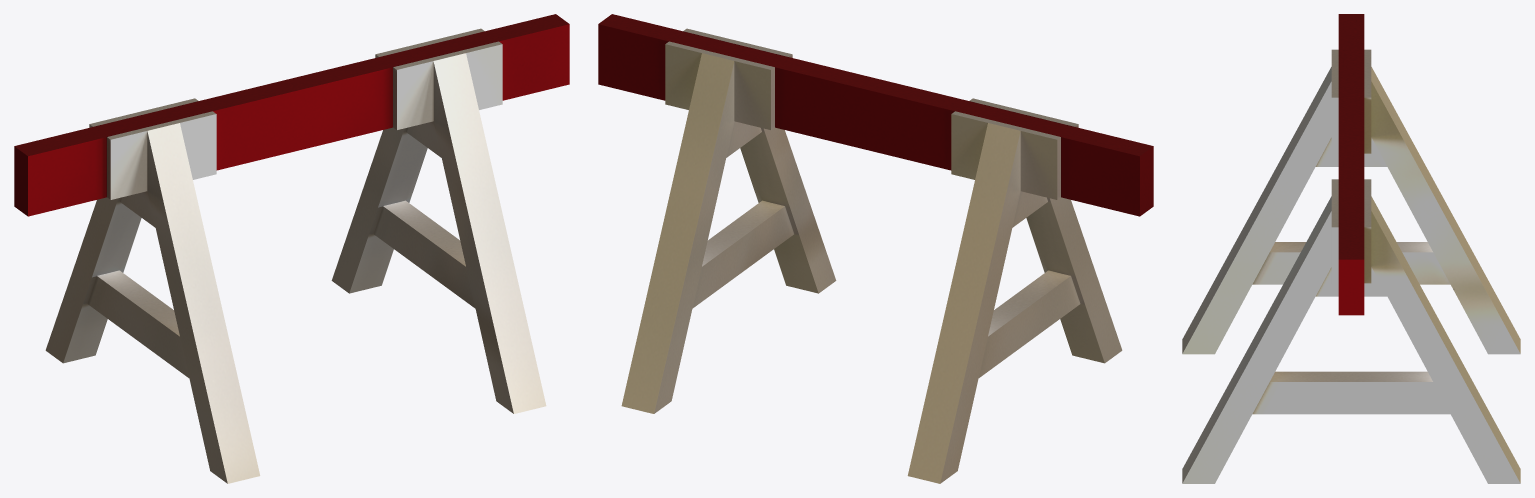
The model's file is engel2.gltf.
3 renders of one model, left to right at view 1: azimuth 30°, elevation 25°; view 2: azimuth 150°, elevation 25°; view 3: azimuth 270°, elevation 25°, orthographic. The views are drawn at different scales.
Visible parts, largest first — view 1: kw_barriers_stand_white2.004; view 2: kw_barriers_stand_white2.004; view 3: kw_barriers_stand_white2.004.
Boxes of the visible parts, x1=… form: kw_barriers_stand_white2.004: x1=14, y1=14, x2=569, y2=483; kw_barriers_stand_white2.004: x1=598, y1=14, x2=1153, y2=483; kw_barriers_stand_white2.004: x1=1182, y1=14, x2=1520, y2=483.
Bounding box in the file's own units: 2.94 × 1.53 × 1.72.
Materials: 1 (1 with a texture image).
